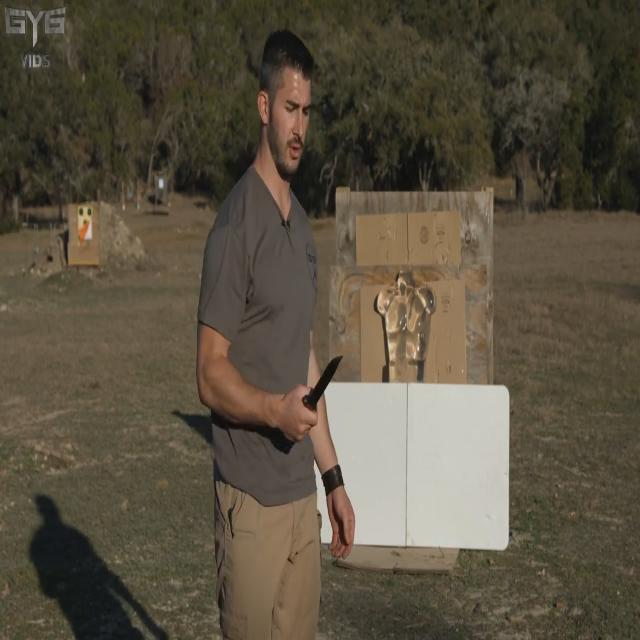knife: (304, 352, 346, 417)
